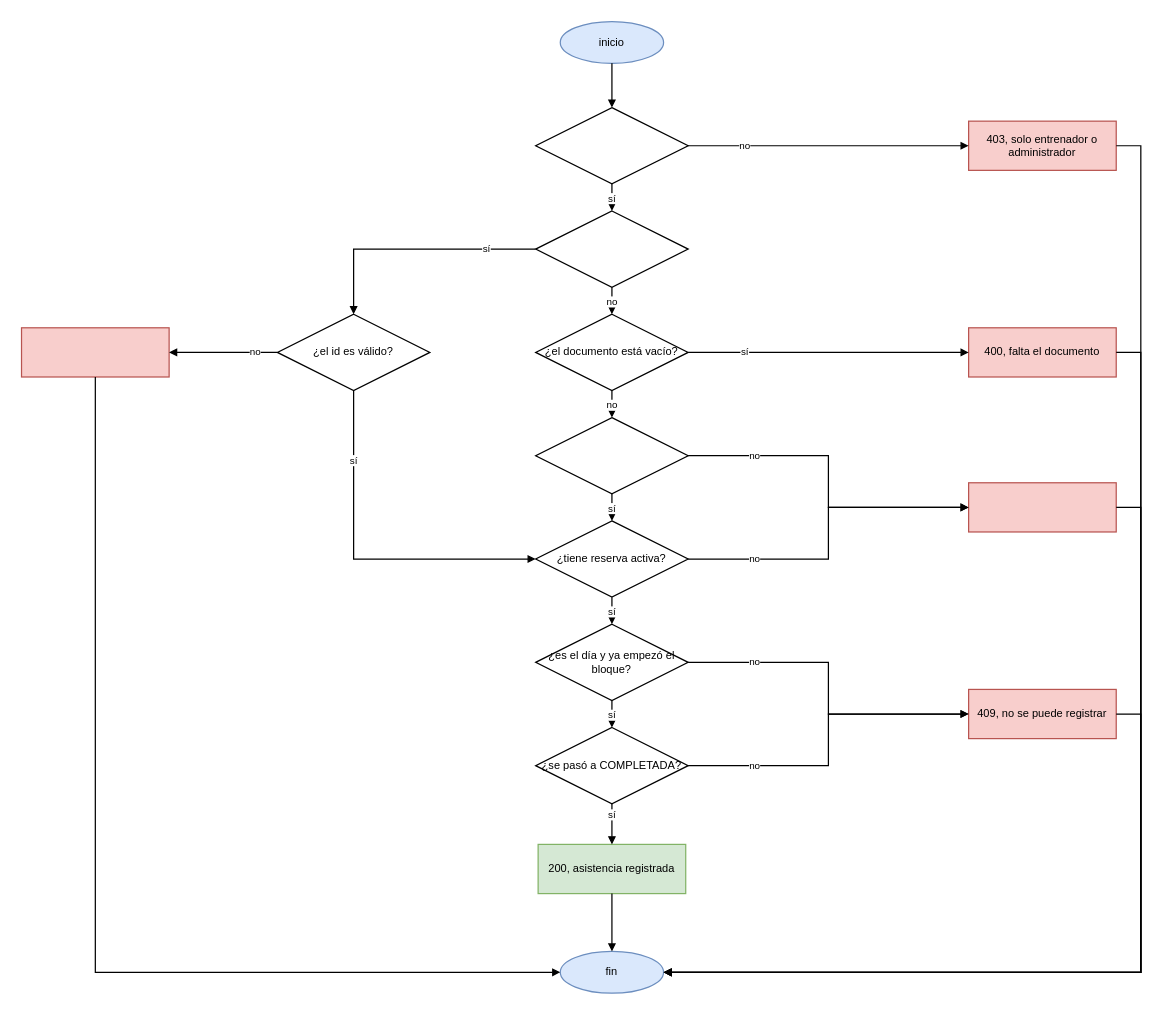
Image size: 1170x1015. Some labels were removed from this diagram. Here are the shapes that lost their labels. From the top down, the centre of each, then its label:
At point (611, 145): "¿es entrenador o administrador?".
At point (611, 248): "¿envió el id de la reserva?".
At point (94, 352): "400, id inválido".
At point (611, 455): "¿existe el estudiante?".
At point (1041, 507): "404, no encontrado".
